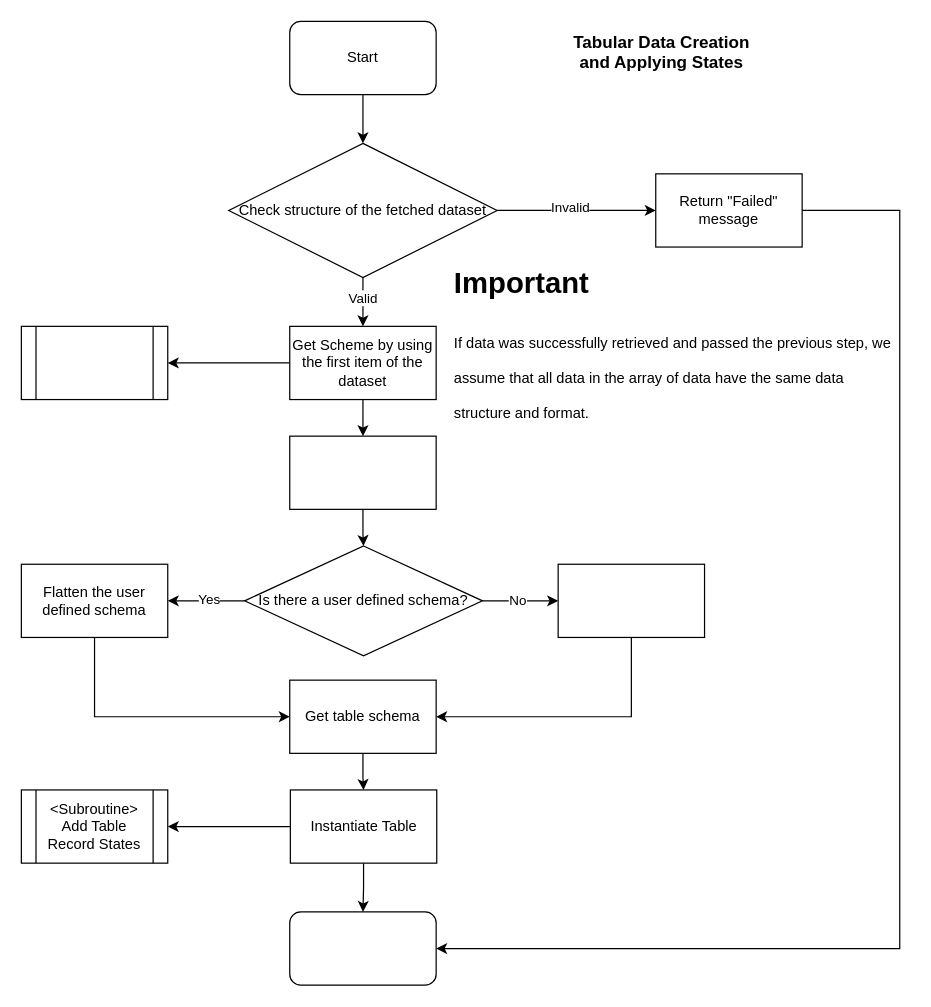
The diagram is 931 pixels wide and 1007 high, and some of its shapes have lost their labels. Each missing label, with the box of its shape:
<Subroutine> Add Table Header States: (20, 325, 168, 400)
End: (289, 911, 436, 985)
Flatten the scheme: (289, 435, 436, 509)
Use the default schema: (557, 563, 705, 637)
